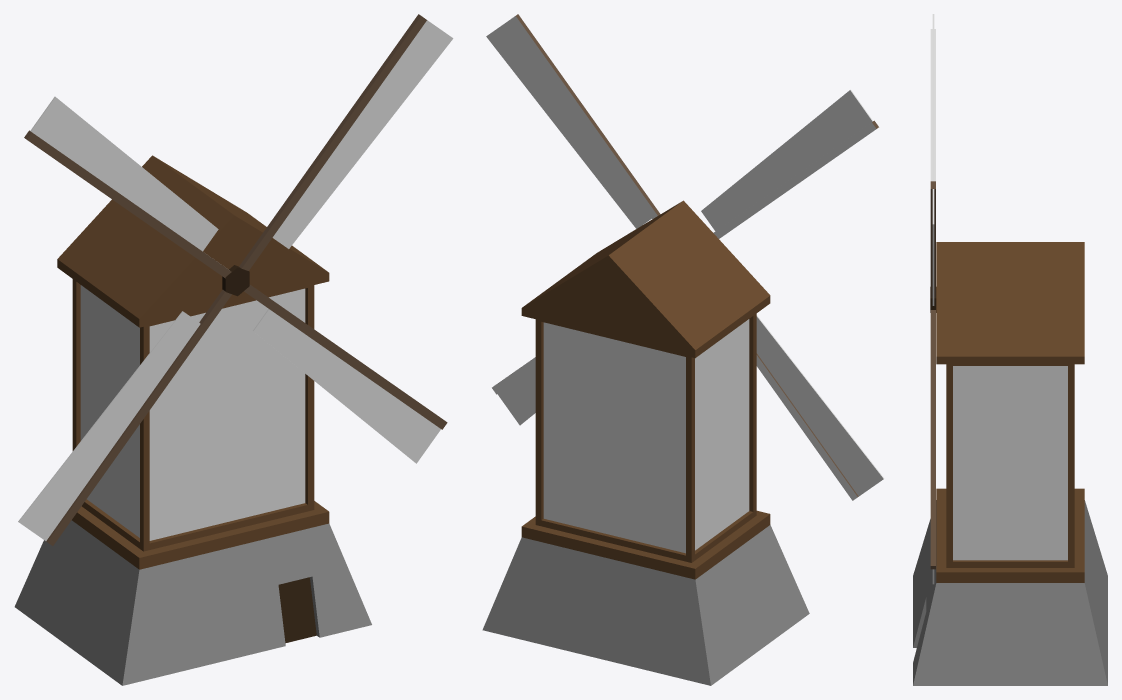
File: Windmill_01.fbx
3 views of the same model, side by side, from view 1: azimuth 30°, elevation 25°; view 2: azimuth 150°, elevation 25°; view 3: azimuth 270°, elevation 25° (orthographic). The views are drawn at different scales.
Parts seen in each view (by area): view 1: Model, Group1; view 2: Model, Group1; view 3: Model, Group1.
Boxes of the visible parts, box(x1,y1,x2,y2) form: Model: box(14, 155, 371, 685); Group1: box(18, 14, 453, 545); Model: box(482, 200, 809, 685); Group1: box(486, 14, 884, 500); Model: box(913, 242, 1107, 685); Group1: box(930, 14, 935, 584).
Bounding box in the file's own units: 4027 × 5262 × 1731.
